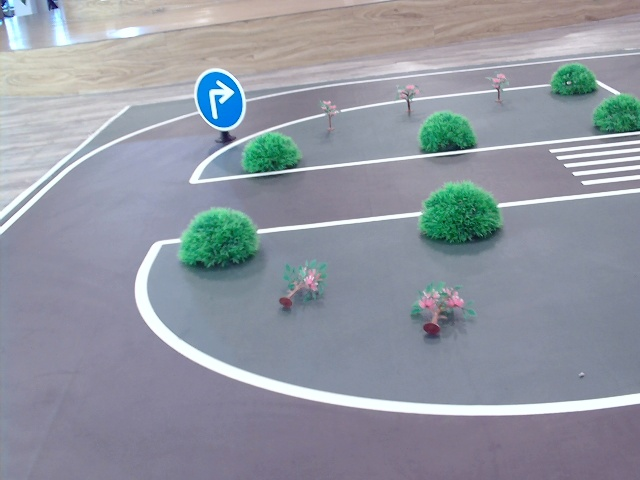turn_right: (199, 79, 235, 117)
